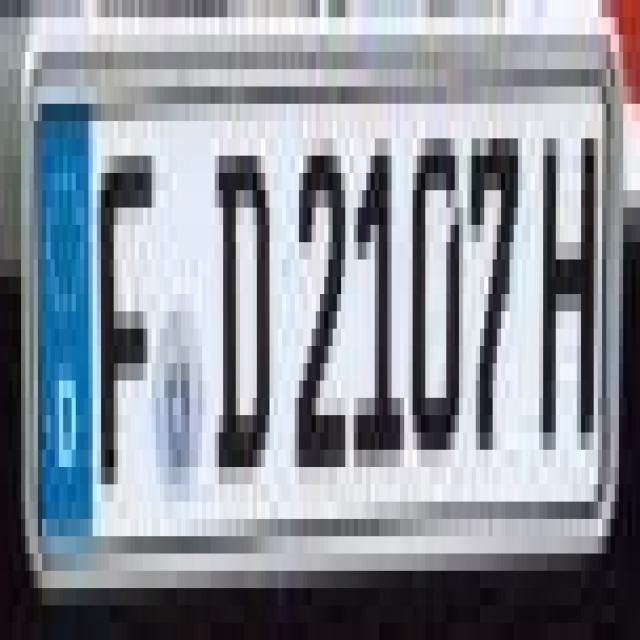Allemagne: (35, 90, 94, 584)
EU: (25, 61, 616, 581)
